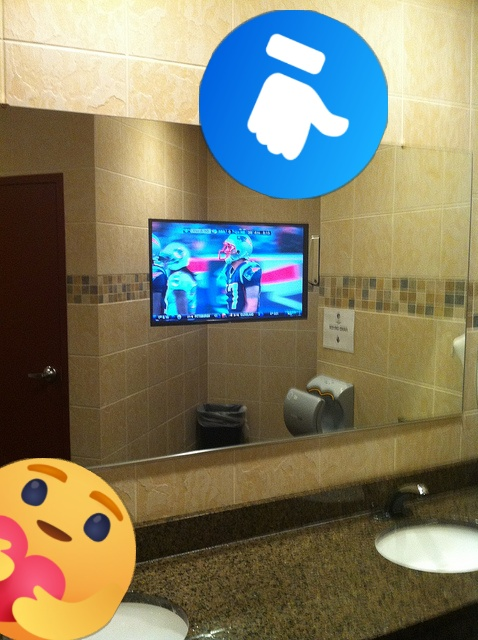care: (0, 458, 136, 640)
like: (199, 10, 388, 199)
